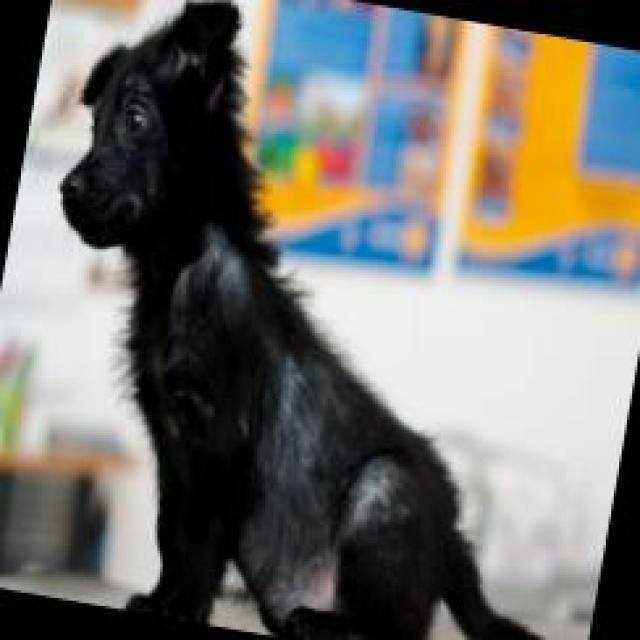fungal infection: (264, 352, 409, 620), (139, 219, 263, 321)
